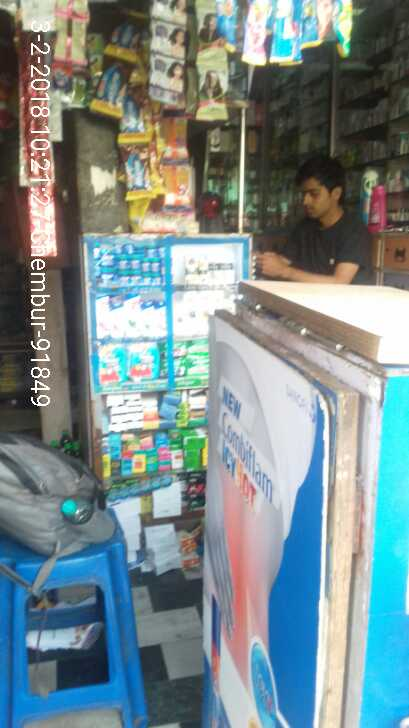vicks: (92, 241, 164, 290)
